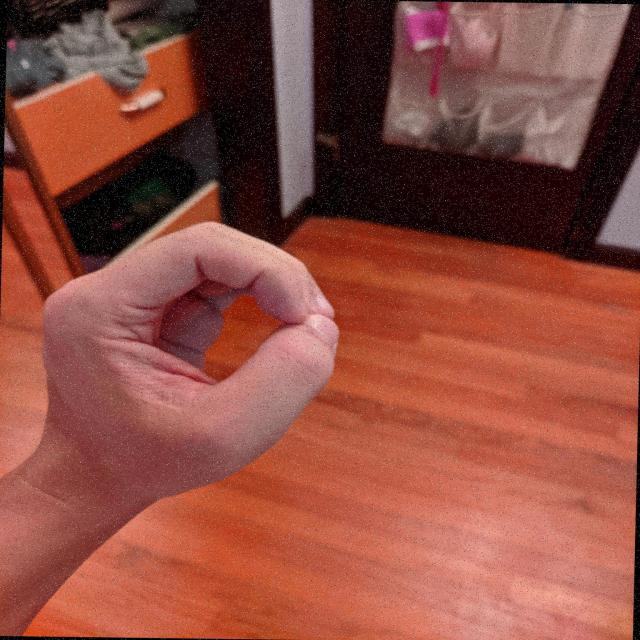O: (28, 213, 350, 511)
